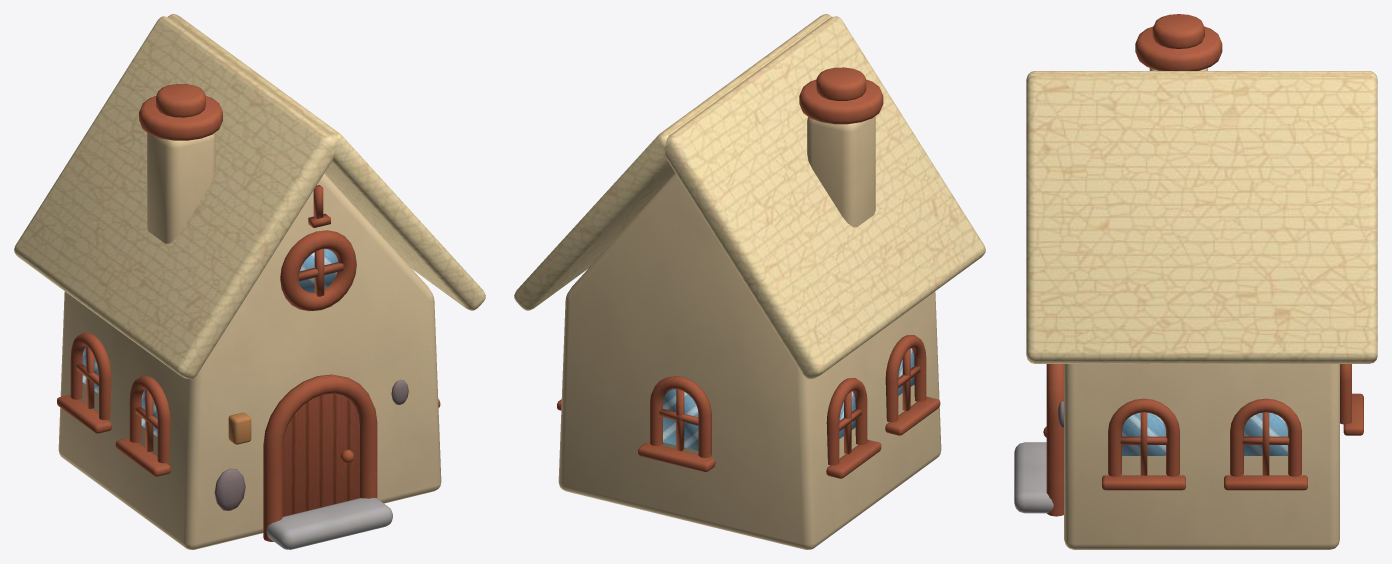
The model's file is hut_test.glb.
3 renders of one model, left to right at view 1: azimuth 30°, elevation 25°; view 2: azimuth 150°, elevation 25°; view 3: azimuth 270°, elevation 25°, orthographic. The views are drawn at different scales.
Visible parts, largest first — view 1: hut; view 2: hut; view 3: hut.
Part boxes in pixels (x1,y1,x2,y2): hut: (14, 14, 485, 549); hut: (514, 14, 985, 549); hut: (1014, 14, 1377, 549).
Bounding box in the file's own units: 1.27 × 1.62 × 1.25.
Materials: 1 (1 with a texture image).
